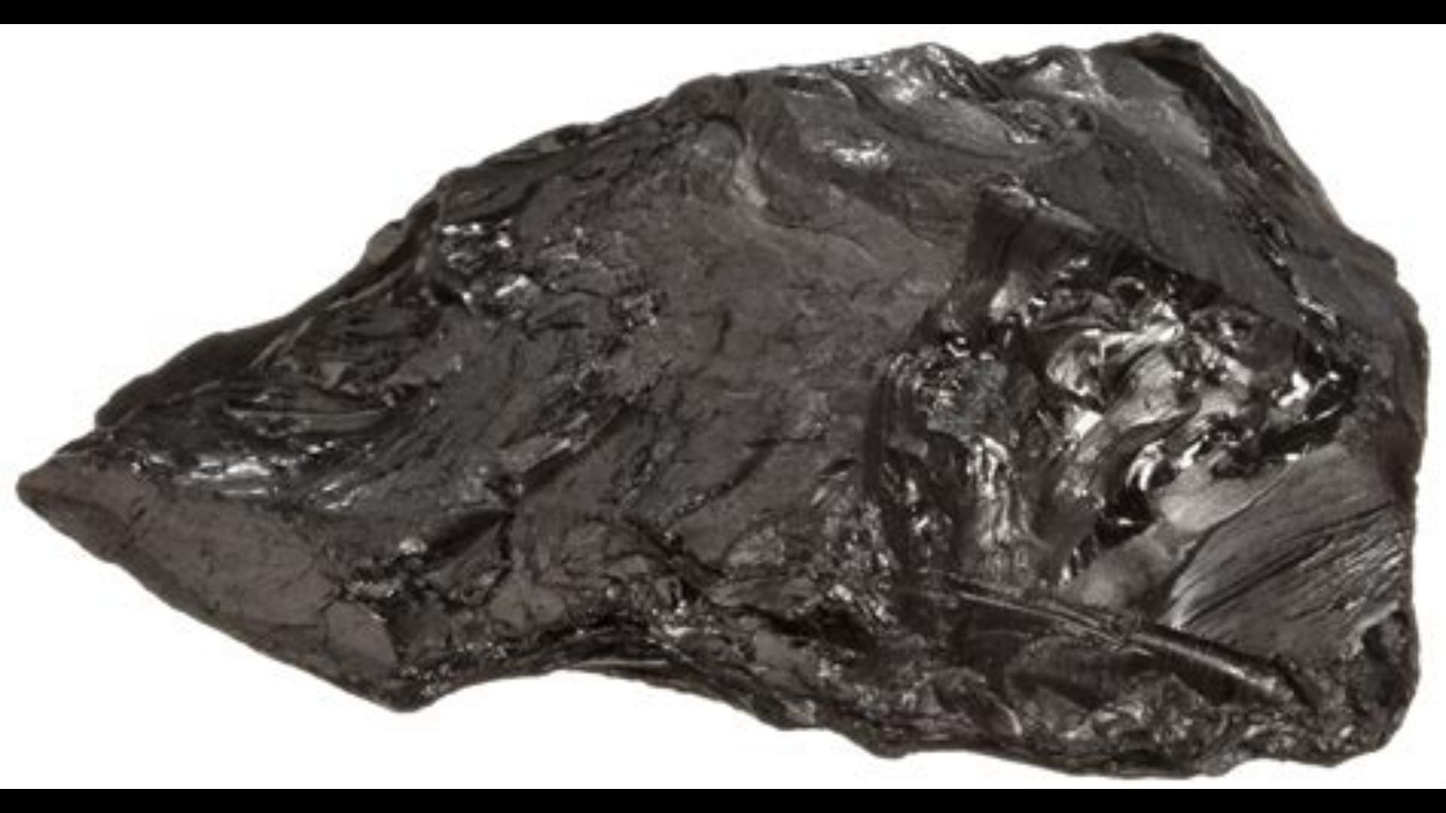rock: (18, 42, 1422, 762)
